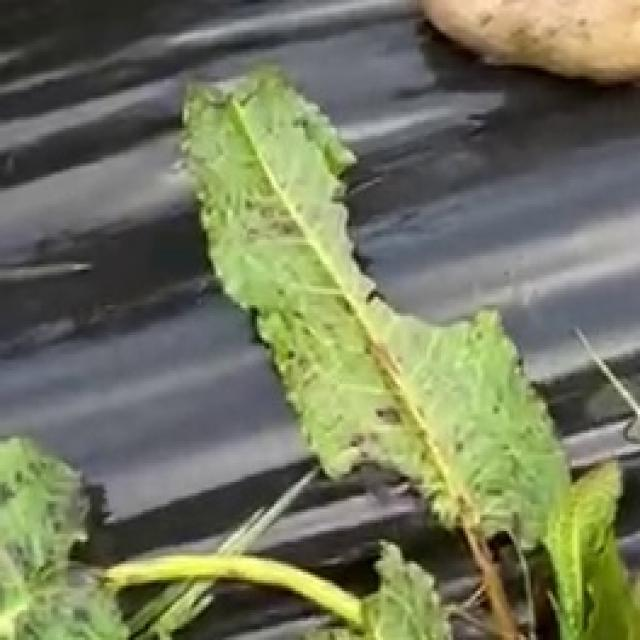organic waste: (95, 53, 640, 640), (0, 390, 143, 629)
